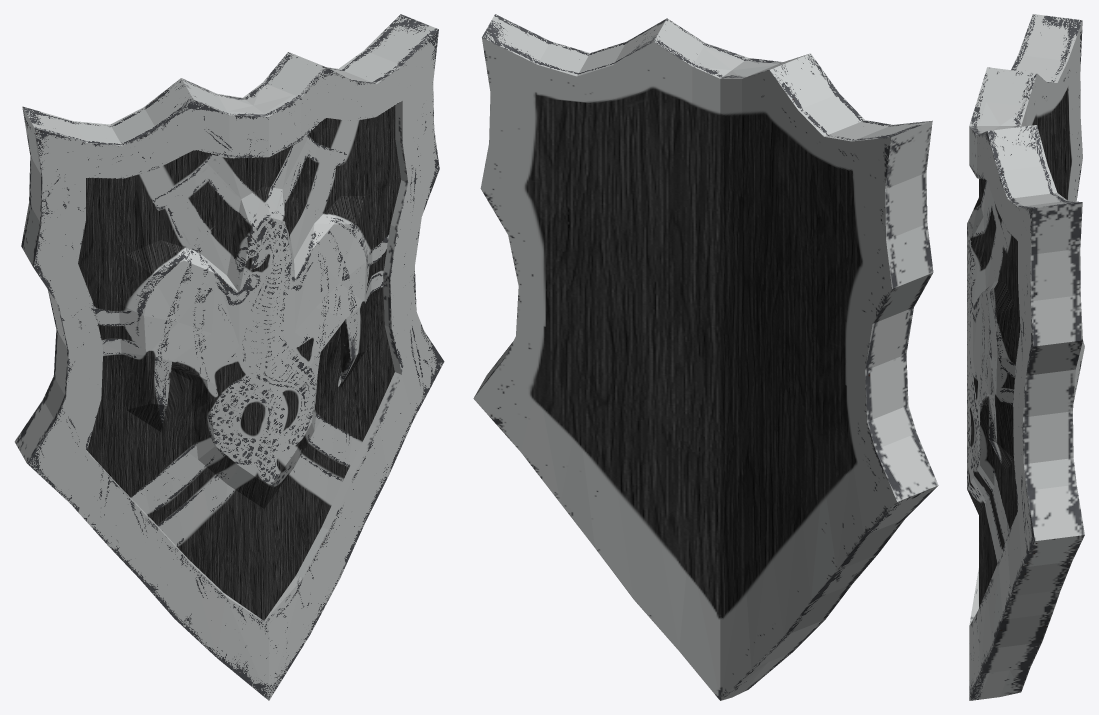
File: Dragon Shield.fbx
The picture shows the model from 3 angles, left to right: view 1: azimuth 30°, elevation 25°; view 2: azimuth 150°, elevation 25°; view 3: azimuth 270°, elevation 25°; orthographic projection. The views are drawn at different scales.
Parts seen in each view (by area): view 1: Dragon_Shield; view 2: Dragon_Shield; view 3: Dragon_Shield.
Part boxes in pixels (left/top/right/bottom): Dragon_Shield: left=14, top=14, right=444, bottom=700; Dragon_Shield: left=473, top=14, right=938, bottom=700; Dragon_Shield: left=967, top=14, right=1084, bottom=700.
Size of the model in its own units: 143 by 200 by 35.59.
